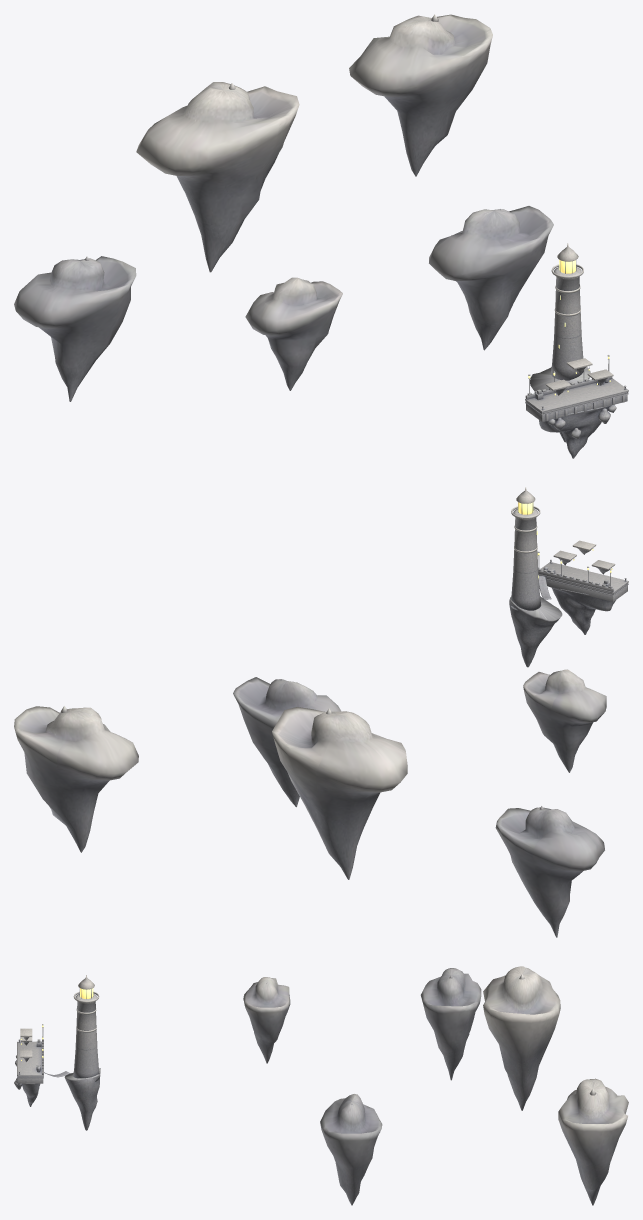
Rendered from beacon-rock.glb.
3 views of the same model, one above another, from view 1: azimuth 30°, elevation 25°; view 2: azimuth 150°, elevation 25°; view 3: azimuth 270°, elevation 25° (orthographic). The views are drawn at different scales.
Visible parts, largest first — view 1: beacon-rock; view 2: beacon-rock; view 3: beacon-rock.
Boxes of the visible parts, box(x1,y1,x2,y2) form: beacon-rock: box(14, 14, 628, 458); beacon-rock: box(14, 487, 628, 937); beacon-rock: box(14, 966, 628, 1205).
Size of the model in its own units: 70.93 by 32.3 by 86.83.
10 materials, 10 textured.
